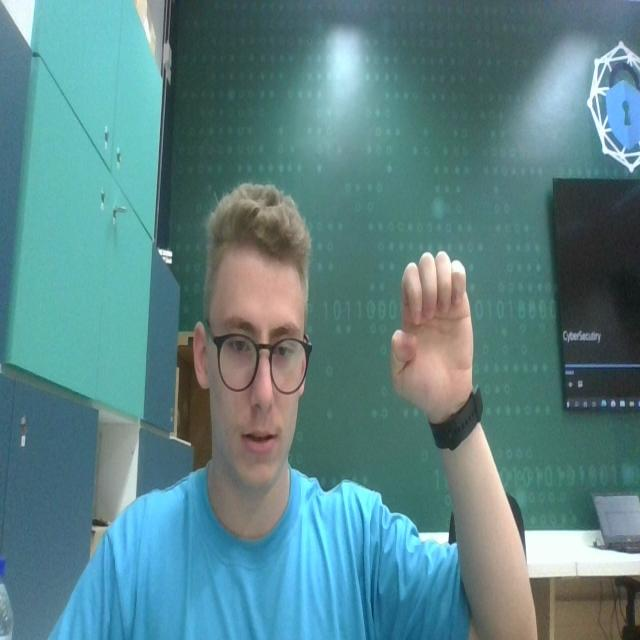E: (379, 246, 481, 424)
